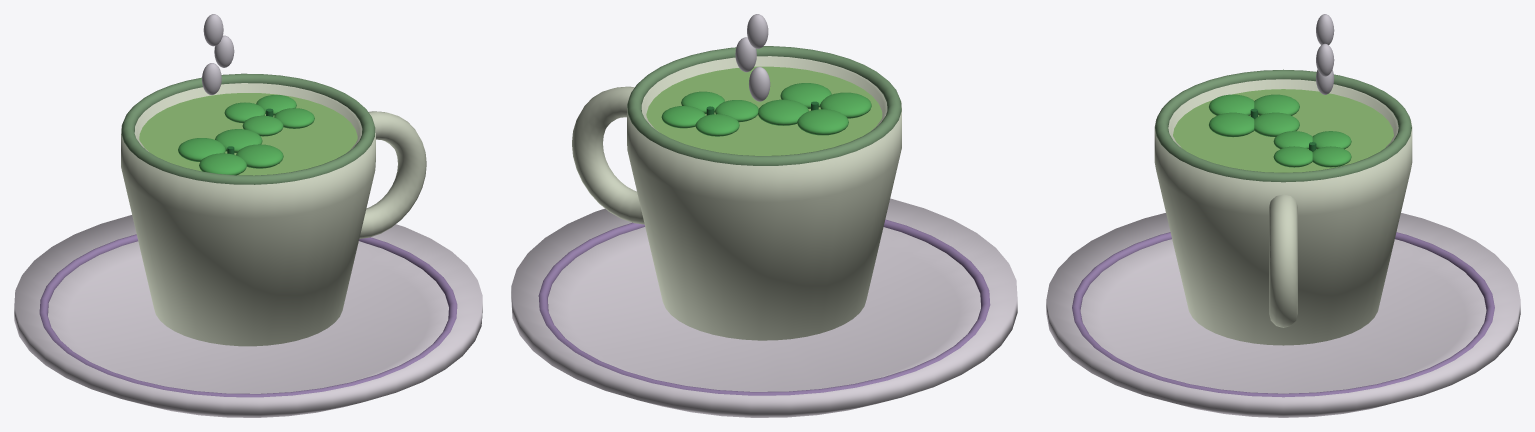
File: tea.glb
The picture shows the model from 3 angles, left to right: view 1: azimuth 30°, elevation 25°; view 2: azimuth 150°, elevation 25°; view 3: azimuth 270°, elevation 25°; orthographic projection. The views are drawn at different scales.
Parts seen in each view (by area): view 1: _cup_cup_rim, _clover-infusion_cyl, _clover-leaves_clover_leaf, _steam_steam; view 2: _cup_cup_rim, _clover-infusion_cyl, _clover-leaves_clover_leaf, _steam_steam; view 3: _cup_cup_rim, _clover-infusion_cyl, _clover-leaves_clover_leaf, _steam_steam.
Boxes of the visible parts, box(x1,y1,x2,y2) form: _cup_cup_rim: box(14, 73, 482, 417); _clover-infusion_cyl: box(139, 93, 357, 175); _clover-leaves_clover_leaf: box(178, 95, 314, 175); _steam_steam: box(202, 14, 234, 95); _cup_cup_rim: box(511, 46, 1017, 417); _clover-infusion_cyl: box(646, 66, 882, 155); _clover-leaves_clover_leaf: box(661, 83, 871, 136); _steam_steam: box(735, 14, 770, 101); _cup_cup_rim: box(1046, 69, 1520, 417); _clover-infusion_cyl: box(1173, 89, 1393, 172); _clover-leaves_clover_leaf: box(1209, 94, 1351, 167); _steam_steam: box(1316, 14, 1334, 94).
Bounding box in the file's own units: 1.14 × 0.837 × 1.14.
